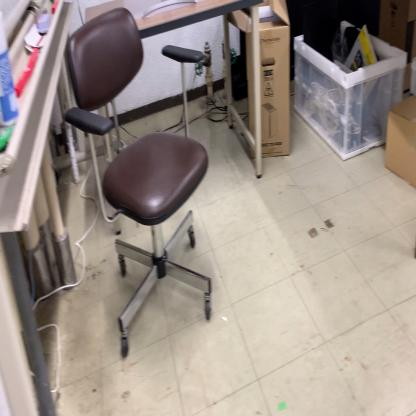chair: (62, 6, 213, 362)
